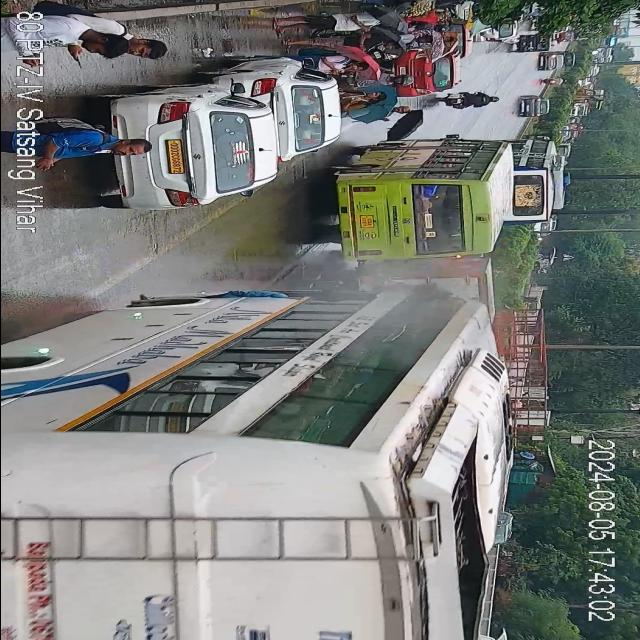2-wheelers: (428, 88, 498, 110), (539, 78, 567, 84)
auto: (516, 34, 551, 58)
bus: (0, 287, 512, 640), (325, 134, 513, 260), (506, 136, 562, 224)
car: (98, 65, 278, 209), (238, 59, 338, 164), (397, 52, 457, 100), (518, 92, 548, 121), (476, 24, 516, 44), (536, 52, 566, 76)
pedestrian: (38, 114, 146, 170), (41, 20, 165, 68), (270, 11, 400, 48), (390, 23, 456, 55), (344, 87, 396, 110), (310, 55, 376, 71), (384, 104, 406, 122)
